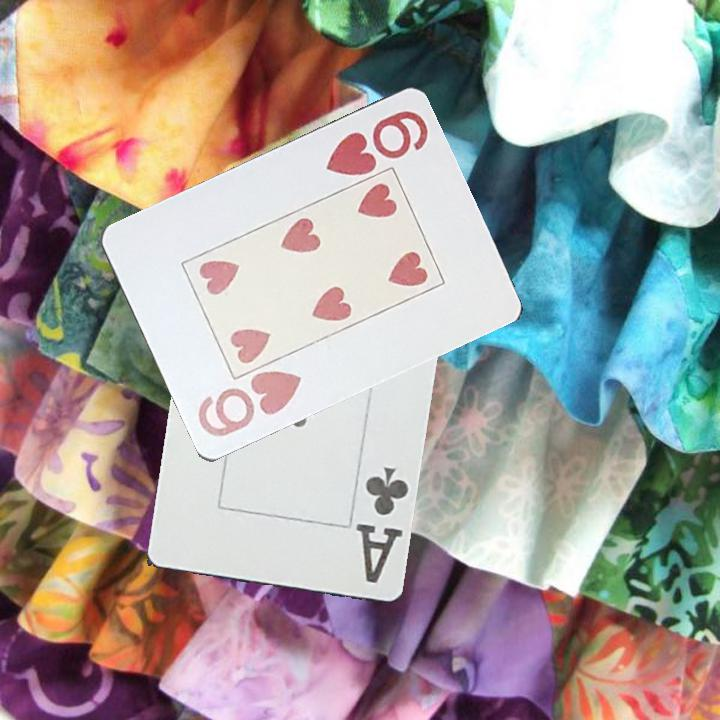6h: (193, 365, 305, 441), (322, 107, 432, 180)
Ac: (352, 463, 414, 587)
